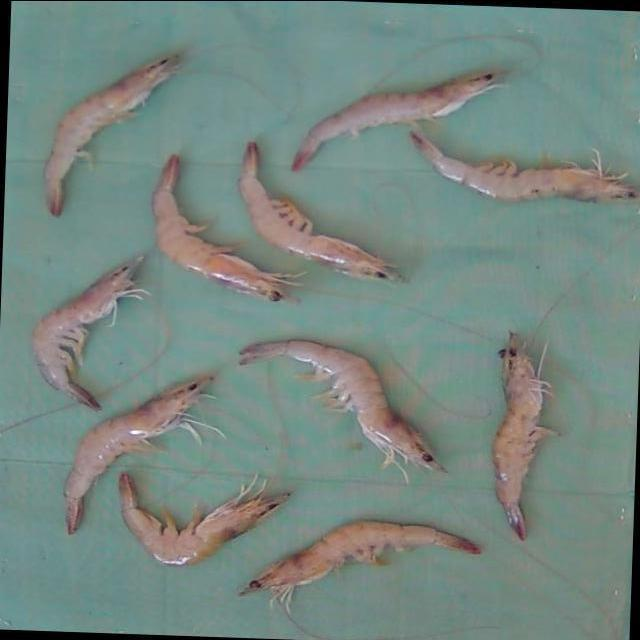shrimp: (240, 339, 445, 472), (63, 375, 222, 534), (238, 141, 403, 280), (238, 521, 480, 611), (151, 154, 299, 300), (44, 54, 177, 215), (291, 71, 501, 170), (31, 255, 148, 410), (409, 130, 640, 201), (118, 472, 289, 566), (492, 332, 558, 540)
